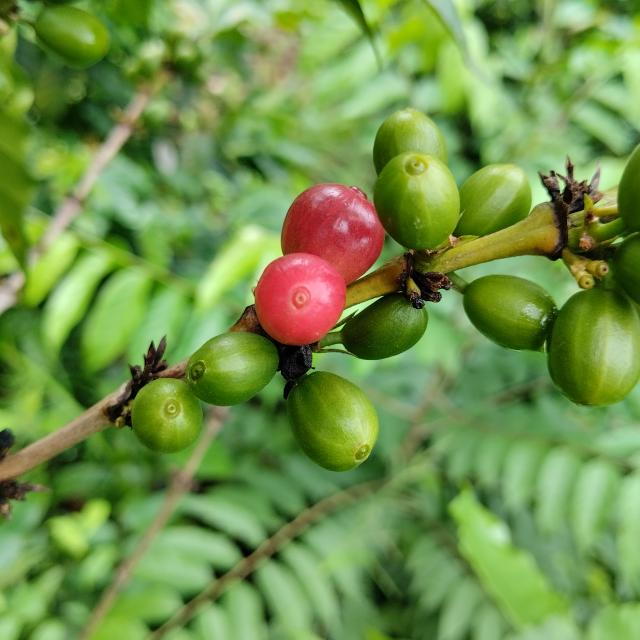green: (547, 287, 640, 407), (287, 372, 379, 472), (374, 150, 461, 250), (464, 275, 558, 351), (185, 332, 279, 407), (340, 293, 429, 360), (454, 164, 532, 236), (131, 379, 202, 454), (373, 108, 448, 175), (613, 233, 640, 304), (619, 144, 640, 231)
red: (281, 183, 385, 284), (255, 253, 346, 346)
